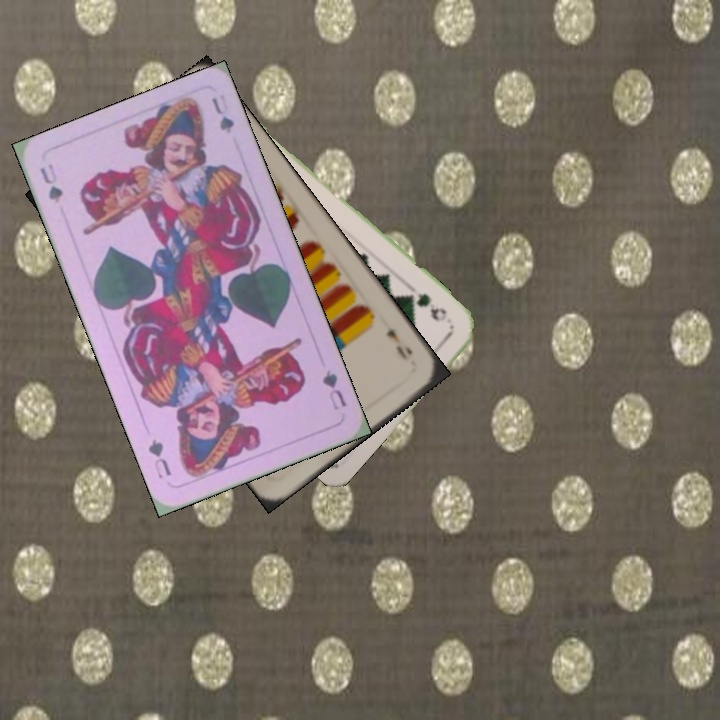E9: (382, 324, 415, 363)
G9: (412, 288, 450, 325)
GU: (318, 366, 349, 412), (36, 159, 66, 206)
